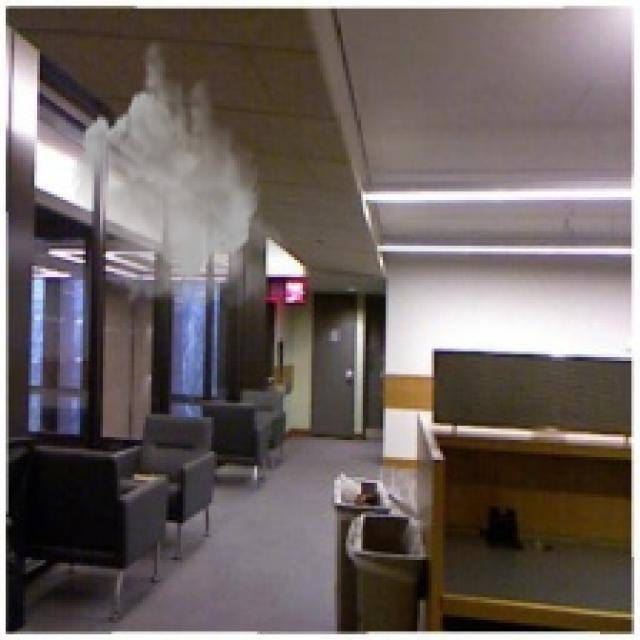Smoke: (72, 37, 288, 317)
